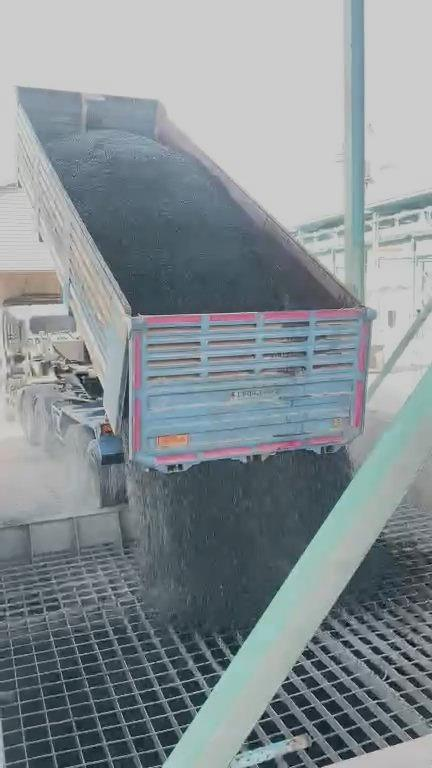gravel: (49, 131, 322, 313), (130, 450, 352, 629), (352, 548, 392, 590)
